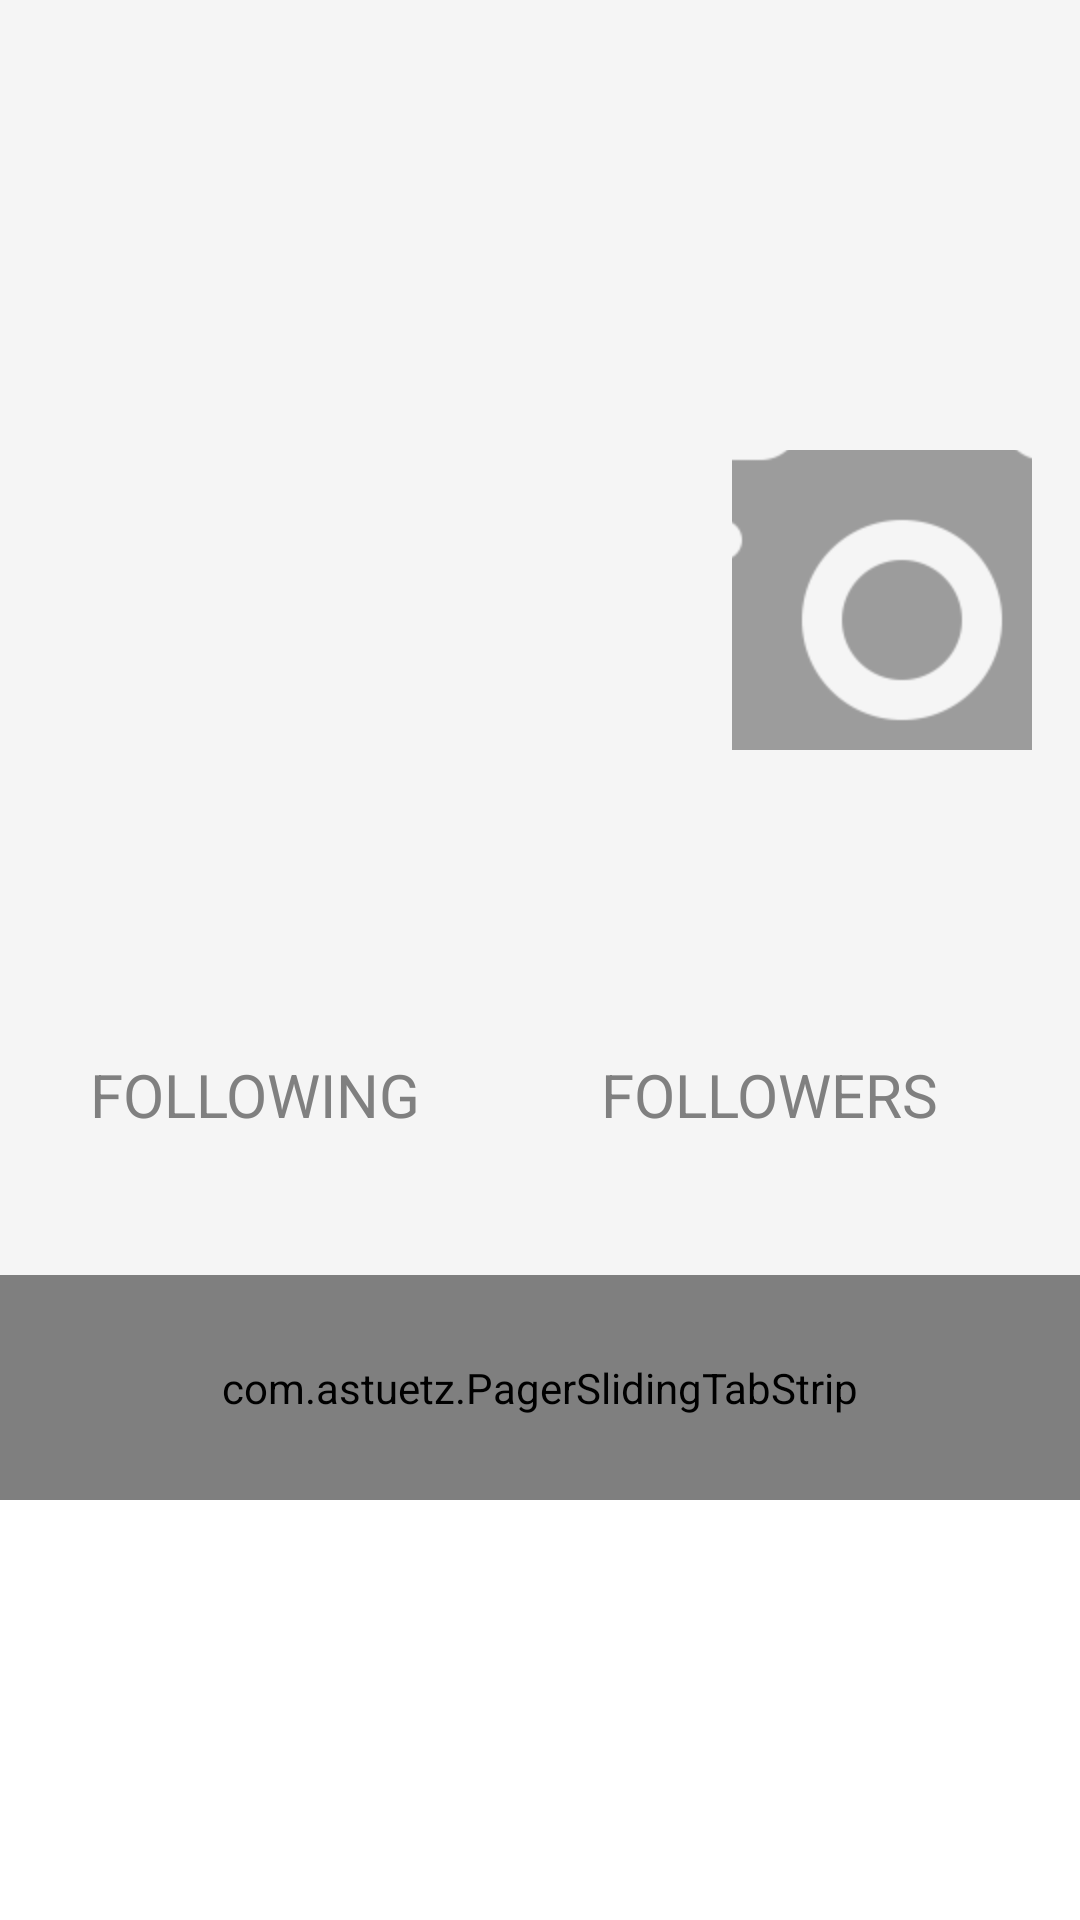

Icon click points for this 1080px x 1920px phone screenshot, format (x=x, y=y):
camera: (x=882, y=600)
